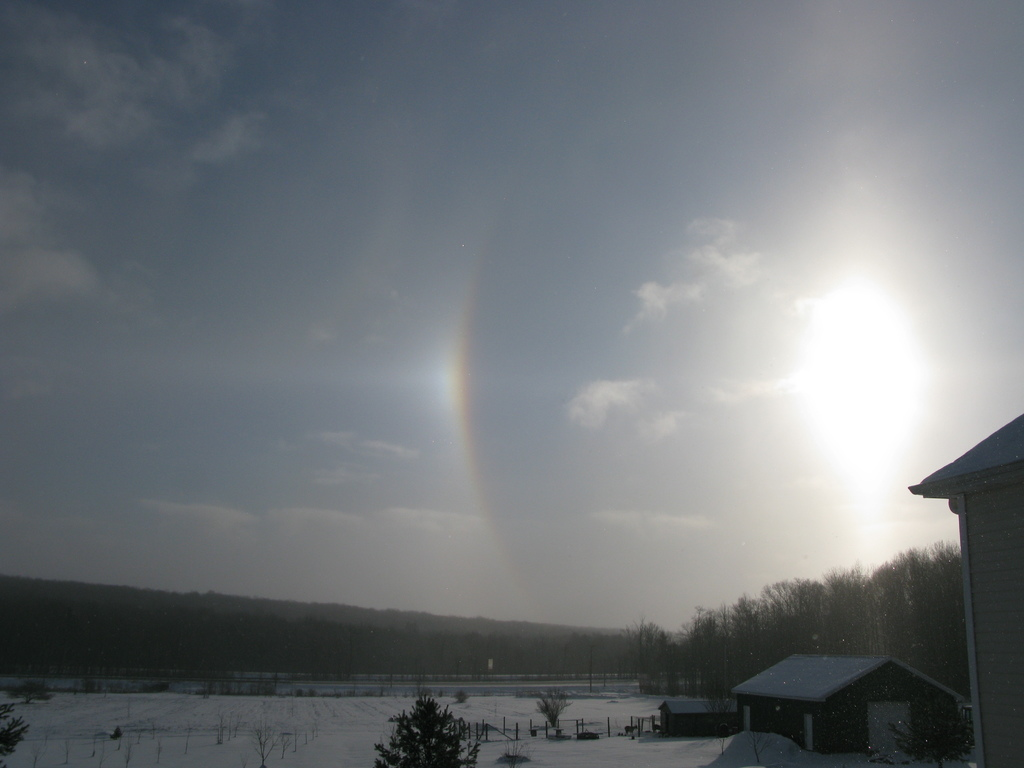Tree: (625, 530, 974, 702), (372, 702, 491, 767), (531, 689, 576, 735)
